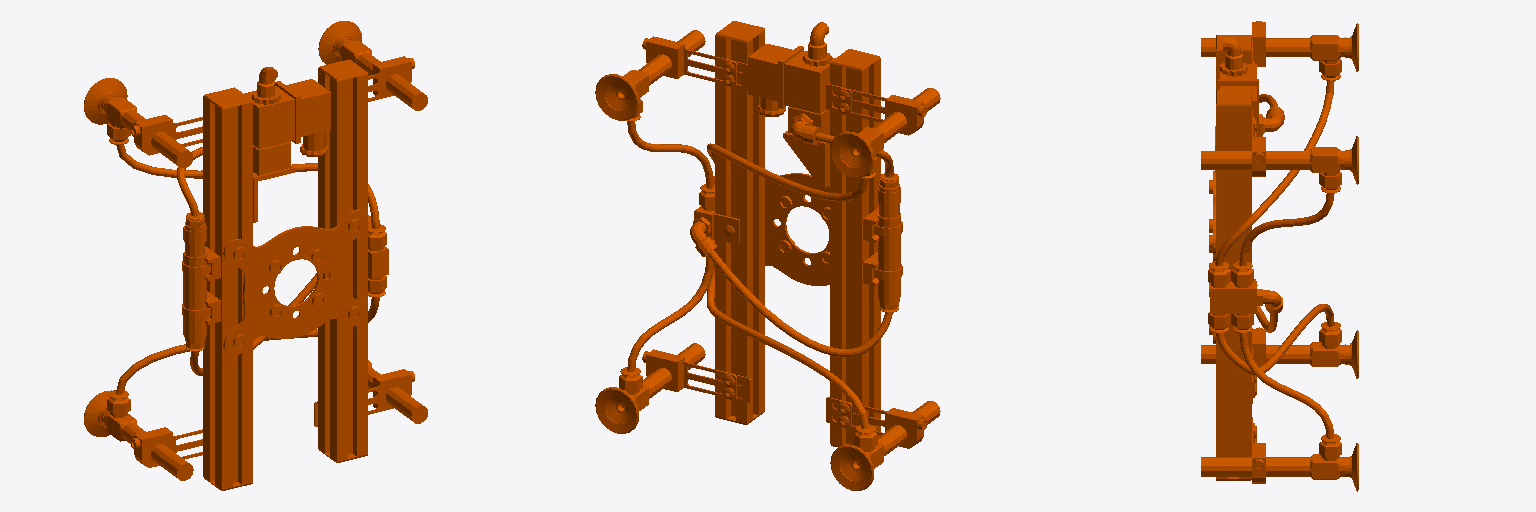
URDF robot description (ur20):
<?xml version="1.0" ?>
<!-- =================================================================================== -->
<!-- |    This document was autogenerated by xacro from [local-path]/testing_ws/src/Universal_Robots_ROS2_Description/urdf/ur.urdf.xacro | -->
<!-- |    EDITING THIS FILE BY HAND IS NOT RECOMMENDED                                 | -->
<!-- =================================================================================== -->
<robot name="ur20">
  <!--
    Base UR robot series xacro macro.

    NOTE this is NOT a URDF. It cannot directly be loaded by consumers
    expecting a flattened '.urdf' file. See the top-level '.xacro' for that
    (but note that .xacro must still be processed by the xacro command).

    This file models the base kinematic chain of a UR robot, which then gets
    parameterised by various configuration files to convert it into a UR3(e),
    UR5(e), UR10(e) or UR16e.

    NOTE the default kinematic parameters (i.e., link lengths, frame locations,
    offsets, etc) do not correspond to any particular robot. They are defaults
    only. There WILL be non-zero offsets between the Forward Kinematics results
    in TF (i.e., robot_state_publisher) and the values reported by the Teach
    Pendant.

    For accurate (and robot-specific) transforms, the 'kinematics_parameters_file'
    parameter MUST point to a .yaml file containing the appropriate values for
    the targeted robot.

    If using the UniversalRobots/Universal_Robots_ROS_Driver, follow the steps
    described in the readme of that repository to extract the kinematic
    calibration from the controller and generate the required .yaml file.

    Main author of the migration to yaml configs [author].

    Contributors to previous versions (in no particular order)

     - [author]
     - [author]
     - [author]
     - [author]
     - [author]
     - [author]
     - [author]
     - [author]
     - [author]
     - [author]
     - [author]
     - [author]
     - [author]
     - [author]
     - [author]
     - [author]
     - [author]
     - [author]
     - [author]
  -->
  <!--
    NOTE the macro defined in this file is NOT part of the public API of this
          package. Users CANNOT rely on this file being available, or stored in
          this location. Nor can they rely on the existence of the macro.
  -->
  <!-- create link fixed to the "world" -->
  <link name="world"/>
  <ros2_control name="ur20" type="system">
    <hardware>
      <plugin>mock_components/GenericSystem</plugin>
      <param name="fake_sensor_commands">False</param>
      <param name="state_following_offset">0.0</param>
    </hardware>
    <joint name="shoulder_pan_joint">
      <command_interface name="position">
        <param name="min">{-2*pi}</param>
        <param name="max">{2*pi}</param>
      </command_interface>
      <command_interface name="velocity">
        <param name="min">-3.15</param>
        <param name="max">3.15</param>
      </command_interface>
      <state_interface name="position">
        <!-- initial position for the FakeSystem and simulation -->
        <param name="initial_value">0.0</param>
      </state_interface>
      <state_interface name="velocity"/>
      <state_interface name="effort"/>
    </joint>
    <joint name="shoulder_lift_joint">
      <command_interface name="position">
        <param name="min">{-2*pi}</param>
        <param name="max">{2*pi}</param>
      </command_interface>
      <command_interface name="velocity">
        <param name="min">-3.15</param>
        <param name="max">3.15</param>
      </command_interface>
      <state_interface name="position">
        <!-- initial position for the FakeSystem and simulation -->
        <param name="initial_value">-1.57</param>
      </state_interface>
      <state_interface name="velocity"/>
      <state_interface name="effort"/>
    </joint>
    <joint name="elbow_joint">
      <command_interface name="position">
        <param name="min">{-pi}</param>
        <param name="max">{pi}</param>
      </command_interface>
      <command_interface name="velocity">
        <param name="min">-3.15</param>
        <param name="max">3.15</param>
      </command_interface>
      <state_interface name="position">
        <!-- initial position for the FakeSystem and simulation -->
        <param name="initial_value">0.0</param>
      </state_interface>
      <state_interface name="velocity"/>
      <state_interface name="effort"/>
    </joint>
    <joint name="wrist_1_joint">
      <command_interface name="position">
        <param name="min">{-2*pi}</param>
        <param name="max">{2*pi}</param>
      </command_interface>
      <command_interface name="velocity">
        <param name="min">-3.2</param>
        <param name="max">3.2</param>
      </command_interface>
      <state_interface name="position">
        <!-- initial position for the FakeSystem and simulation -->
        <param name="initial_value">-1.57</param>
      </state_interface>
      <state_interface name="velocity"/>
      <state_interface name="effort"/>
    </joint>
    <joint name="wrist_2_joint">
      <command_interface name="position">
        <param name="min">{-2*pi}</param>
        <param name="max">{2*pi}</param>
      </command_interface>
      <command_interface name="velocity">
        <param name="min">-3.2</param>
        <param name="max">3.2</param>
      </command_interface>
      <state_interface name="position">
        <!-- initial position for the FakeSystem and simulation -->
        <param name="initial_value">0.0</param>
      </state_interface>
      <state_interface name="velocity"/>
      <state_interface name="effort"/>
    </joint>
    <joint name="wrist_3_joint">
      <command_interface name="position">
        <param name="min">{-2*pi}</param>
        <param name="max">{2*pi}</param>
      </command_interface>
      <command_interface name="velocity">
        <param name="min">-3.2</param>
        <param name="max">3.2</param>
      </command_interface>
      <state_interface name="position">
        <!-- initial position for the FakeSystem and simulation -->
        <param name="initial_value">0.0</param>
      </state_interface>
      <state_interface name="velocity"/>
      <state_interface name="effort"/>
    </joint>
    <sensor name="tcp_fts_sensor">
      <state_interface name="force.x"/>
      <state_interface name="force.y"/>
      <state_interface name="force.z"/>
      <state_interface name="torque.x"/>
      <state_interface name="torque.y"/>
      <state_interface name="torque.z"/>
    </sensor>
    <!-- NOTE The following are joints used only for testing with fake hardware and will change in the future -->
    <gpio name="speed_scaling">
      <state_interface name="speed_scaling_factor"/>
      <param name="initial_speed_scaling_factor">1</param>
      <command_interface name="target_speed_fraction_cmd"/>
      <command_interface name="target_speed_fraction_async_success"/>
    </gpio>
    <gpio name="gpio">
      <command_interface name="standard_digital_output_cmd_0"/>
      <command_interface name="standard_digital_output_cmd_1"/>
      <command_interface name="standard_digital_output_cmd_2"/>
      <command_interface name="standard_digital_output_cmd_3"/>
      <command_interface name="standard_digital_output_cmd_4"/>
      <command_interface name="standard_digital_output_cmd_5"/>
      <command_interface name="standard_digital_output_cmd_6"/>
      <command_interface name="standard_digital_output_cmd_7"/>
      <command_interface name="standard_digital_output_cmd_8"/>
      <command_interface name="standard_digital_output_cmd_9"/>
      <command_interface name="standard_digital_output_cmd_10"/>
      <command_interface name="standard_digital_output_cmd_11"/>
      <command_interface name="standard_digital_output_cmd_12"/>
      <command_interface name="standard_digital_output_cmd_13"/>
      <command_interface name="standard_digital_output_cmd_14"/>
      <command_interface name="standard_digital_output_cmd_15"/>
      <command_interface name="standard_digital_output_cmd_16"/>
      <command_interface name="standard_digital_output_cmd_17"/>
      <command_interface name="standard_analog_output_cmd_0"/>
      <command_interface name="standard_analog_output_cmd_1"/>
      <command_interface name="tool_voltage_cmd"/>
      <command_interface name="io_async_success"/>
      <state_interface name="digital_output_0"/>
      <state_interface name="digital_output_1"/>
      <state_interface name="digital_output_2"/>
      <state_interface name="digital_output_3"/>
      <state_interface name="digital_output_4"/>
      <state_interface name="digital_output_5"/>
      <state_interface name="digital_output_6"/>
      <state_interface name="digital_output_7"/>
      <state_interface name="digital_output_8"/>
      <state_interface name="digital_output_9"/>
      <state_interface name="digital_output_10"/>
      <state_interface name="digital_output_11"/>
      <state_interface name="digital_output_12"/>
      <state_interface name="digital_output_13"/>
      <state_interface name="digital_output_14"/>
      <state_interface name="digital_output_15"/>
      <state_interface name="digital_output_16"/>
      <state_interface name="digital_output_17"/>
      <state_interface name="digital_input_0"/>
      <state_interface name="digital_input_1"/>
      <state_interface name="digital_input_2"/>
      <state_interface name="digital_input_3"/>
      <state_interface name="digital_input_4"/>
      <state_interface name="digital_input_5"/>
      <state_interface name="digital_input_6"/>
      <state_interface name="digital_input_7"/>
      <state_interface name="digital_input_8"/>
      <state_interface name="digital_input_9"/>
      <state_interface name="digital_input_10"/>
      <state_interface name="digital_input_11"/>
      <state_interface name="digital_input_12"/>
      <state_interface name="digital_input_13"/>
      <state_interface name="digital_input_14"/>
      <state_interface name="digital_input_15"/>
      <state_interface name="digital_input_16"/>
      <state_interface name="digital_input_17"/>
      <state_interface name="standard_analog_output_0"/>
      <state_interface name="standard_analog_output_1"/>
      <state_interface name="standard_analog_input_0"/>
      <state_interface name="standard_analog_input_1"/>
      <state_interface name="analog_io_type_0"/>
      <state_interface name="analog_io_type_1"/>
      <state_interface name="analog_io_type_2"/>
      <state_interface name="analog_io_type_3"/>
      <state_interface name="tool_mode"/>
      <state_interface name="tool_output_voltage"/>
      <state_interface name="tool_output_current"/>
      <state_interface name="tool_temperature"/>
      <state_interface name="tool_analog_input_0"/>
      <state_interface name="tool_analog_input_1"/>
      <state_interface name="tool_analog_input_type_0"/>
      <state_interface name="tool_analog_input_type_1"/>
      <state_interface name="robot_mode"/>
      <state_interface name="robot_status_bit_0"/>
      <state_interface name="robot_status_bit_1"/>
      <state_interface name="robot_status_bit_2"/>
      <state_interface name="robot_status_bit_3"/>
      <state_interface name="safety_mode"/>
      <state_interface name="safety_status_bit_0"/>
      <state_interface name="safety_status_bit_1"/>
      <state_interface name="safety_status_bit_2"/>
      <state_interface name="safety_status_bit_3"/>
      <state_interface name="safety_status_bit_4"/>
      <state_interface name="safety_status_bit_5"/>
      <state_interface name="safety_status_bit_6"/>
      <state_interface name="safety_status_bit_7"/>
      <state_interface name="safety_status_bit_8"/>
      <state_interface name="safety_status_bit_9"/>
      <state_interface name="safety_status_bit_10"/>
      <state_interface name="program_running"/>
    </gpio>
    <gpio name="payload">
      <command_interface name="mass"/>
      <command_interface name="cog.x"/>
      <command_interface name="cog.y"/>
      <command_interface name="cog.z"/>
      <command_interface name="payload_async_success"/>
    </gpio>
    <gpio name="resend_robot_program">
      <command_interface name="resend_robot_program_cmd"/>
      <command_interface name="resend_robot_program_async_success"/>
    </gpio>
    <gpio name="hand_back_control">
      <command_interface name="hand_back_control_cmd"/>
      <command_interface name="hand_back_control_async_success"/>
    </gpio>
    <gpio name="zero_ftsensor">
      <command_interface name="zero_ftsensor_cmd"/>
      <command_interface name="zero_ftsensor_async_success"/>
    </gpio>
    <gpio name="system_interface">
      <state_interface name="initialized"/>
    </gpio>
  </ros2_control>
  <!-- Add URDF transmission elements (for ros_control) -->
  <!--<xacro:ur_arm_transmission prefix="${prefix}" hw_interface="${transmission_hw_interface}" />-->
  <!-- Placeholder for ros2_control transmission which don't yet exist -->
  <!-- links -  main serial chain -->
  <link name="base_link"/>
  <link name="base_link_inertia">
    <visual>
      <origin rpy="0 0 3.141592653589793" xyz="0 0 0"/>
      <geometry>
        <mesh filename="package://ur_description/meshes/ur20/visual/base.dae"/>
      </geometry>
    </visual>
    <collision>
      <origin rpy="0 0 3.141592653589793" xyz="0 0 0"/>
      <geometry>
        <mesh filename="package://ur_description/meshes/ur20/collision/base.stl"/>
      </geometry>
    </collision>
    <inertial>
      <mass value="4.0"/>
      <origin rpy="0 0 0" xyz="0 0 0"/>
      <inertia ixx="0.0061063308908" ixy="0.0" ixz="0.0" iyy="0.0061063308908" iyz="0.0" izz="0.01125"/>
    </inertial>
  </link>
  <link name="shoulder_link">
    <visual>
      <origin rpy="0 0 3.141592653589793" xyz="0 0 0"/>
      <geometry>
        <mesh filename="package://ur_description/meshes/ur20/visual/shoulder.dae"/>
      </geometry>
    </visual>
    <collision>
      <origin rpy="0 0 3.141592653589793" xyz="0 0 0"/>
      <geometry>
        <mesh filename="package://ur_description/meshes/ur20/collision/shoulder.stl"/>
      </geometry>
    </collision>
    <inertial>
      <mass value="16.343"/>
      <origin rpy="0 0 0" xyz="0 0 0"/>
      <inertia ixx="0.06613328496334209" ixy="0.0" ixz="0.0" iyy="0.06613328496334209" iyz="0.0" izz="0.0459646875"/>
    </inertial>
  </link>
  <link name="upper_arm_link">
    <visual>
      <origin rpy="1.5707963267948966 0 -1.5707963267948966" xyz="0 0 0.26"/>
      <geometry>
        <mesh filename="package://ur_description/meshes/ur20/visual/upperarm.dae"/>
      </geometry>
    </visual>
    <collision>
      <origin rpy="1.5707963267948966 0 -1.5707963267948966" xyz="0 0 0.26"/>
      <geometry>
        <mesh filename="package://ur_description/meshes/ur20/collision/upperarm.stl"/>
      </geometry>
    </collision>
    <inertial>
      <mass value="29.632"/>
      <origin rpy="0 1.5707963267948966 0" xyz="-0.426 0.0 0.275"/>
      <inertia ixx="1.8341682103324226" ixy="0.0" ixz="0.0" iyy="1.8341682103324226" iyz="0.0" izz="0.08334"/>
    </inertial>
  </link>
  <link name="forearm_link">
    <visual>
      <origin rpy="1.5707963267948966 0 -1.5707963267948966" xyz="0 0 0.043"/>
      <geometry>
        <mesh filename="package://ur_description/meshes/ur20/visual/forearm.dae"/>
      </geometry>
    </visual>
    <collision>
      <origin rpy="1.5707963267948966 0 -1.5707963267948966" xyz="0 0 0.043"/>
      <geometry>
        <mesh filename="package://ur_description/meshes/ur20/collision/forearm.stl"/>
      </geometry>
    </collision>
    <inertial>
      <mass value="7.879"/>
      <origin rpy="0 1.5707963267948966 0" xyz="-0.36435 0.0 0.043"/>
      <inertia ixx="0.35972787265129336" ixy="0.0" ixz="0.0" iyy="0.35972787265129336" iyz="0.0" izz="0.022159687499999997"/>
    </inertial>
  </link>
  <link name="wrist_1_link">
    <visual>
      <origin rpy="1.5707963267948966 0 0" xyz="0 0 -0.0775"/>
      <geometry>
        <mesh filename="package://ur_description/meshes/ur20/visual/wrist1.dae"/>
      </geometry>
    </visual>
    <collision>
      <origin rpy="1.5707963267948966 0 0" xyz="0 0 -0.0775"/>
      <geometry>
        <mesh filename="package://ur_description/meshes/ur20/collision/wrist1.stl"/>
      </geometry>
    </collision>
    <inertial>
      <mass value="3.054"/>
      <origin rpy="0 0 0" xyz="0 0 0"/>
      <inertia ixx="0.007959484316204999" ixy="0.0" ixz="0.0" iyy="0.007959484316204999" iyz="0.0" izz="0.008589374999999998"/>
    </inertial>
  </link>
  <link name="wrist_2_link">
    <visual>
      <origin rpy="0 0 0" xyz="0 0 -0.0749"/>
      <geometry>
        <mesh filename="package://ur_description/meshes/ur20/visual/wrist2.dae"/>
      </geometry>
    </visual>
    <collision>
      <origin rpy="0 0 0" xyz="0 0 -0.0749"/>
      <geometry>
        <mesh filename="package://ur_description/meshes/ur20/collision/wrist2.stl"/>
      </geometry>
    </collision>
    <inertial>
      <mass value="3.126"/>
      <origin rpy="0 0 0" xyz="0 0 0"/>
      <inertia ixx="0.008147134241144998" ixy="0.0" ixz="0.0" iyy="0.008147134241144998" iyz="0.0" izz="0.008791875"/>
    </inertial>
  </link>
  <link name="wrist_3_link">
    <visual>
      <origin rpy="1.5707963267948966 0 0" xyz="0 0 -0.07"/>
      <geometry>
        <mesh filename="package://ur_description/meshes/ur20/visual/wrist3.dae"/>
      </geometry>
    </visual>
    <collision>
      <origin rpy="1.5707963267948966 0 0" xyz="0 0 -0.07"/>
      <geometry>
        <mesh filename="package://ur_description/meshes/ur20/collision/wrist3.stl"/>
      </geometry>
    </collision>
    <inertial>
      <mass value="0.846"/>
      <origin rpy="0 0 0" xyz="0.0 0.0 -0.025"/>
      <inertia ixx="0.000604537258185" ixy="0.0" ixz="0.0" iyy="0.000604537258185" iyz="0.0" izz="0.0008565749999999999"/>
    </inertial>
  </link>
  <!-- base_joint fixes base_link to the environment -->
  <joint name="base_joint" type="fixed">
    <origin rpy="0 0 0" xyz="0 0 0"/>
    <parent link="world"/>
    <child link="base_link"/>
  </joint>
  <!-- joints - main serial chain -->
  <joint name="base_link-base_link_inertia" type="fixed">
    <parent link="base_link"/>
    <child link="base_link_inertia"/>
    <!-- 'base_link' is REP-103 aligned (so X+ forward), while the internal
           frames of the robot/controller have X+ pointing backwards.
           Use the joint between 'base_link' and 'base_link_inertia' (a dummy
           link/frame) to introduce the necessary rotation over Z (of pi rad).
      -->
    <origin rpy="0 0 3.141592653589793" xyz="0 0 0"/>
  </joint>
  <joint name="shoulder_pan_joint" type="revolute">
    <parent link="base_link_inertia"/>
    <child link="shoulder_link"/>
    <origin rpy="0 0 0" xyz="0 0 0.2363"/>
    <axis xyz="0 0 1"/>
    <limit effort="330.0" lower="-6.283185307179586" upper="6.283185307179586" velocity="2.2689280275926285"/>
    <dynamics damping="0" friction="0"/>
  </joint>
  <joint name="shoulder_lift_joint" type="revolute">
    <parent link="shoulder_link"/>
    <child link="upper_arm_link"/>
    <origin rpy="1.570796327 0 0" xyz="0 0 0"/>
    <axis xyz="0 0 1"/>
    <limit effort="330.0" lower="-6.283185307179586" upper="6.283185307179586" velocity="2.2689280275926285"/>
    <dynamics damping="0" friction="0"/>
  </joint>
  <joint name="elbow_joint" type="revolute">
    <parent link="upper_arm_link"/>
    <child link="forearm_link"/>
    <origin rpy="0 0 0" xyz="-0.862 0 0"/>
    <axis xyz="0 0 1"/>
    <limit effort="150.0" lower="-3.141592653589793" upper="3.141592653589793" velocity="2.792526803190927"/>
    <dynamics damping="0" friction="0"/>
  </joint>
  <joint name="wrist_1_joint" type="revolute">
    <parent link="forearm_link"/>
    <child link="wrist_1_link"/>
    <origin rpy="0 0 0" xyz="-0.7287 0 0.201"/>
    <axis xyz="0 0 1"/>
    <limit effort="56.0" lower="-6.283185307179586" upper="6.283185307179586" velocity="3.839724354387525"/>
    <dynamics damping="0" friction="0"/>
  </joint>
  <joint name="wrist_2_joint" type="revolute">
    <parent link="wrist_1_link"/>
    <child link="wrist_2_link"/>
    <origin rpy="1.570796327 0 0" xyz="0 -0.1593 -3.267297616249225e-11"/>
    <axis xyz="0 0 1"/>
    <limit effort="56.0" lower="-6.283185307179586" upper="6.283185307179586" velocity="3.839724354387525"/>
    <dynamics damping="0" friction="0"/>
  </joint>
  <joint name="wrist_3_joint" type="revolute">
    <parent link="wrist_2_link"/>
    <child link="wrist_3_link"/>
    <origin rpy="1.570796326589793 3.141592653589793 3.141592653589793" xyz="0 0.1543 -3.1647459019915597e-11"/>
    <axis xyz="0 0 1"/>
    <limit effort="56.0" lower="-6.283185307179586" upper="6.283185307179586" velocity="3.839724354387525"/>
    <dynamics damping="0" friction="0"/>
  </joint>
  <link name="ft_frame"/>
  <joint name="wrist_3_link-ft_frame" type="fixed">
    <parent link="wrist_3_link"/>
    <child link="ft_frame"/>
    <origin rpy="3.141592653589793 0 0" xyz="0 0 0"/>
  </joint>
  <!-- ROS-Industrial 'base' frame - base_link to UR 'Base' Coordinates transform -->
  <link name="base"/>
  <joint name="base_link-base_fixed_joint" type="fixed">
    <!-- Note the rotation over Z of pi radians - as base_link is REP-103
           aligned (i.e., has X+ forward, Y+ left and Z+ up), this is needed
           to correctly align 'base' with the 'Base' coordinate system of
           the UR controller.
      -->
    <origin rpy="0 0 3.141592653589793" xyz="0 0 0"/>
    <parent link="base_link"/>
    <child link="base"/>
  </joint>
  <!-- ROS-Industrial 'flange' frame - attachment point for EEF models -->
  <link name="flange"/>
  <joint name="wrist_3-flange" type="fixed">
    <parent link="wrist_3_link"/>
    <child link="flange"/>
    <origin rpy="0 -1.5707963267948966 -1.5707963267948966" xyz="0 0 0"/>
  </joint>
  <!-- ROS-Industrial 'tool0' frame - all-zeros tool frame -->
  <link name="tool0"/>
  <joint name="flange-tool0" type="fixed">
    <!-- default toolframe - X+ left, Y+ up, Z+ front -->
    <origin rpy="1.5707963267948966 0 1.5707963267948966" xyz="0 0 0"/>
    <parent link="flange"/>
    <child link="tool0"/>
  </joint>
  <link name="gripper_link">
    <visual>
      <origin rpy="1.5707963267948966 0 -1.5707963267948966" xyz="0 0 0"/>
      <geometry>
        <mesh filename="package://ur_description/meshes/ur20/visual/Gripper.dae"/>
      </geometry>
    </visual>
    <collision>
      <origin rpy="1.5707963267948966 0 -1.5707963267948966" xyz="0 0 0"/>
      <geometry>
        <mesh filename="package://ur_description/meshes/ur20/collision/Gripper.stl"/>
      </geometry>
    </collision>
  </link>
  <joint name="tool0-gripper" type="fixed">
    <parent link="tool0"/>
    <child link="gripper_link"/>
    <origin rpy="1.5707963267948966 1.5707963267948966 0" xyz="0 0 0.03"/>
  </joint>
</robot>

--- What the picture shows (computed from the rendered views, not written in the file) ---
The picture shows the robot from 3 angles, left to right: view 1: azimuth 30°, elevation 25°; view 2: azimuth 150°, elevation 25°; view 3: azimuth 270°, elevation 25°; orthographic projection.
Model ur20 with 14 links and 13 joints (6 revolute, 7 fixed), rooted at world, posed every joint at zero.
Visible links, largest first — view 1: gripper_link; view 2: gripper_link; view 3: gripper_link.
Boxes of the visible links, bbox=[...] form: gripper_link: bbox=[84, 21, 427, 490]; gripper_link: bbox=[595, 21, 940, 490]; gripper_link: bbox=[1201, 21, 1358, 491].
Bounding box of the posed robot: 0.2311 × 0.1153 × 0.322 m (x, y, z).
Meshes: 8 distinct files referenced, 1 mesh visuals loaded (1 Collada DAE); not drawn: 7 (reference not matched to a file when rendering).